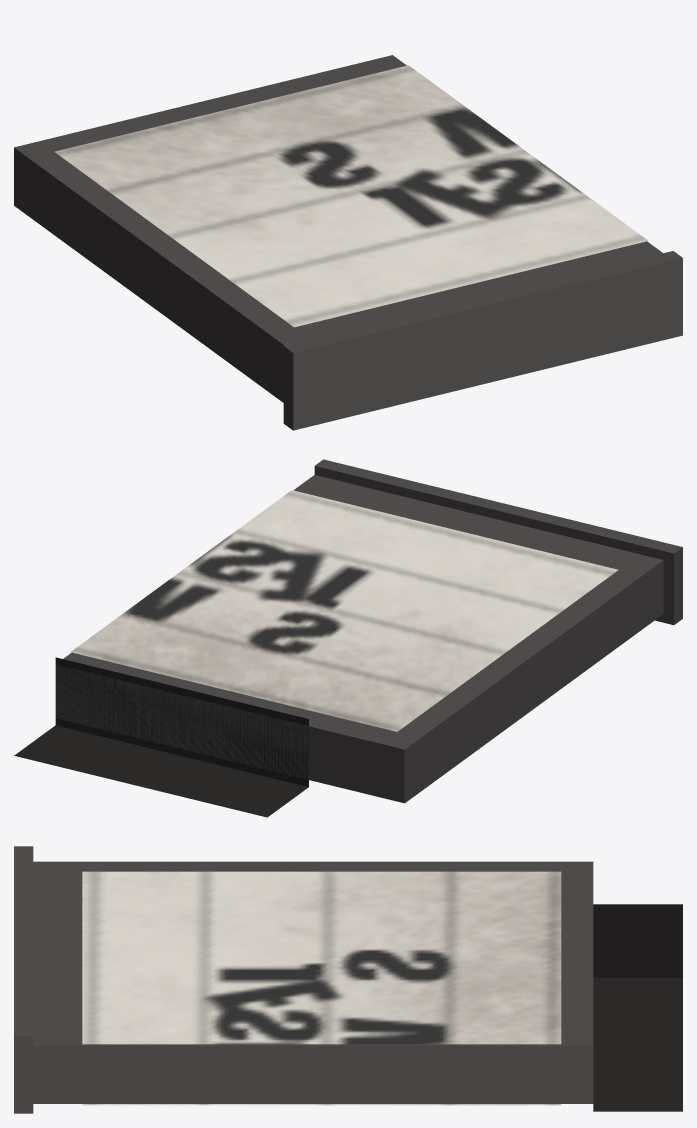
Rendered from section-8.obj.
3 renders of one model, top to bottom at view 1: azimuth 30°, elevation 25°; view 2: azimuth 150°, elevation 25°; view 3: azimuth 270°, elevation 25°, orthographic. The views are drawn at different scales.
Size of the model in its own units: 1.05 by 0.2 by 1.57.
Materials: 1 (1 with a texture image).
